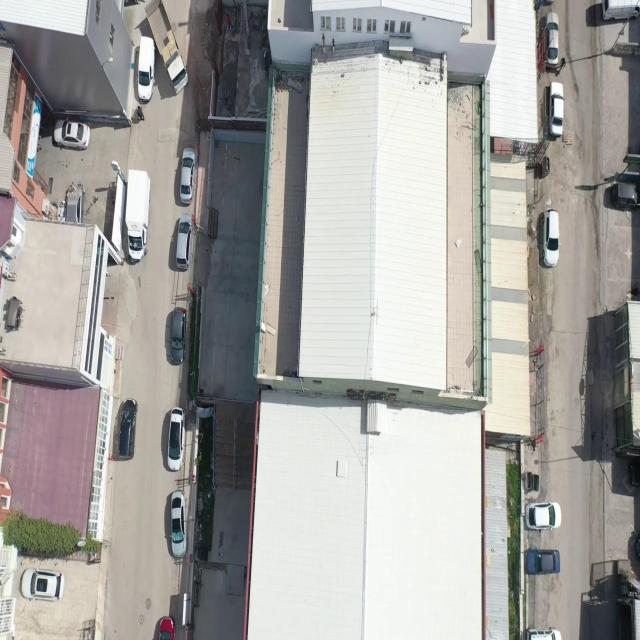p3rson: (558, 58, 566, 74), (136, 106, 144, 121)
